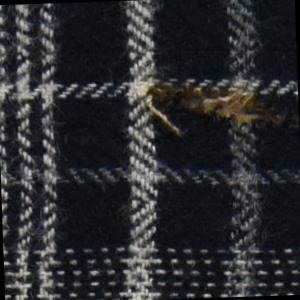Damage: (147, 80, 296, 136)
Oil Stain: (137, 75, 300, 150)
